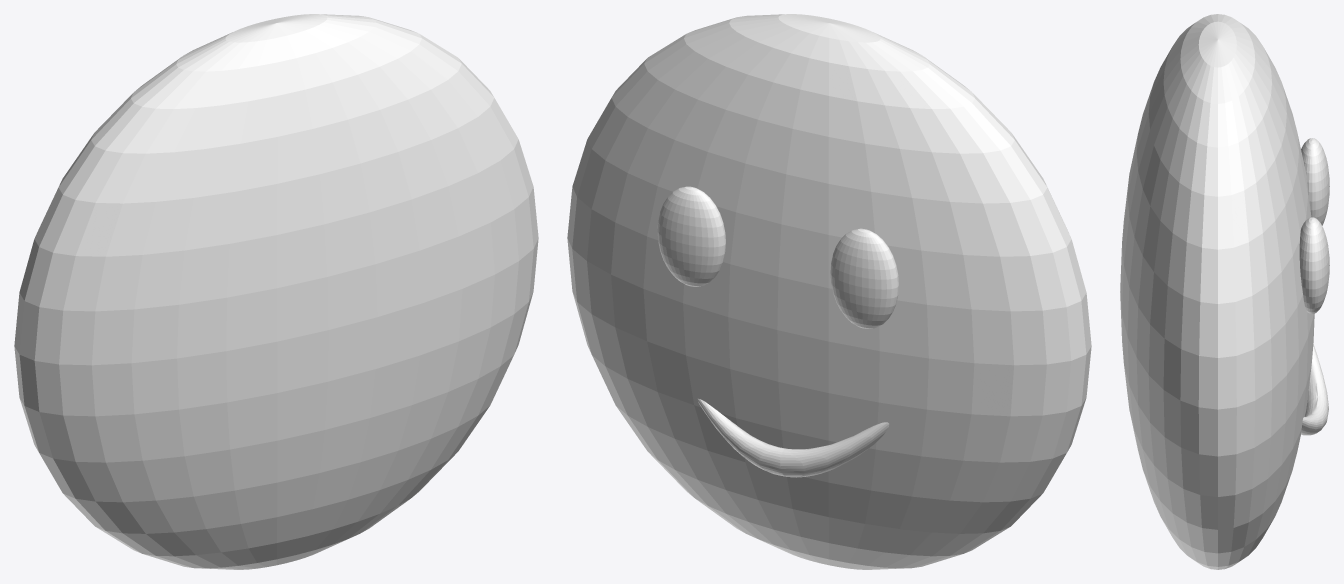
Rendered from AbsolutelyHappy.obj.
The picture shows the model from 3 angles, left to right: view 1: azimuth 30°, elevation 25°; view 2: azimuth 150°, elevation 25°; view 3: azimuth 270°, elevation 25°; orthographic projection. The views are drawn at different scales.
Visible parts, largest first — view 1: 球; view 2: 球, 球.002, 球.001, 球.003; view 3: 球, 球.001, 球.002, 球.003.
Part boxes in pixels (x1=…): 球: x1=14, y1=14, x2=538, y2=569; 球: x1=567, y1=14, x2=1091, y2=569; 球.002: x1=830, y1=228, x2=898, y2=328; 球.001: x1=657, y1=186, x2=725, y2=286; 球.003: x1=697, y1=398, x2=889, y2=477; 球: x1=1120, y1=14, x2=1314, y2=569; 球.001: x1=1299, y1=217, x2=1329, y2=313; 球.002: x1=1301, y1=138, x2=1329, y2=225; 球.003: x1=1301, y1=344, x2=1328, y2=435.
Size of the model in its own units: 2 by 2 by 0.7536.
